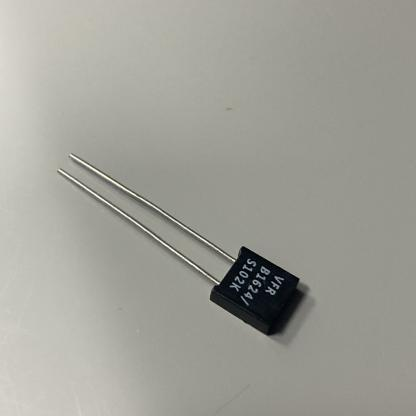SP0000008: (38, 106, 378, 354)
